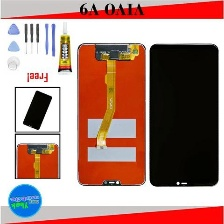phone: (147, 42, 221, 191), (75, 41, 146, 187), (20, 89, 53, 131)
